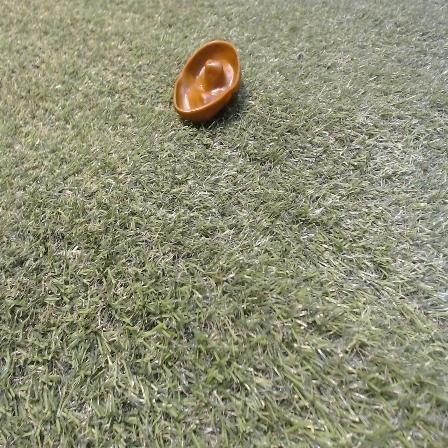dog-poop: (167, 33, 248, 125)
